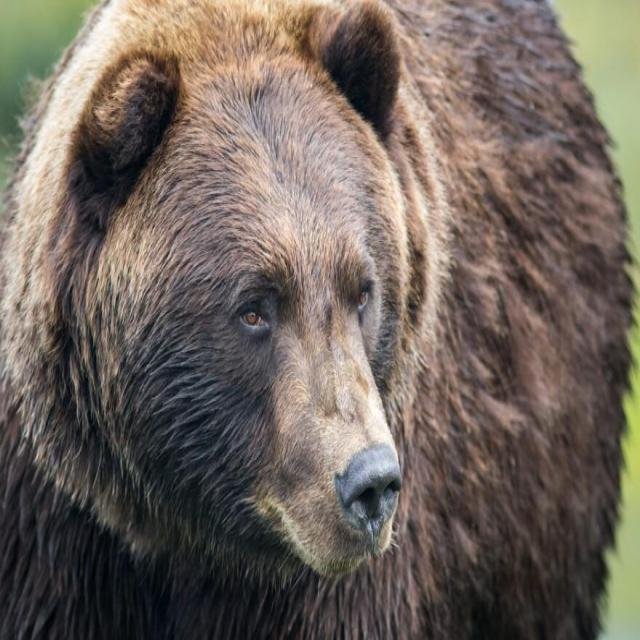Bear: (0, 0, 635, 640)
